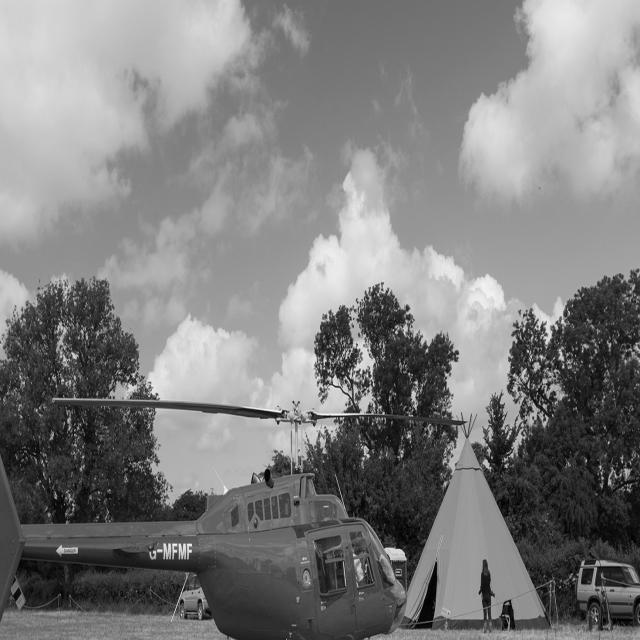helicopter: (1, 312, 418, 640)
